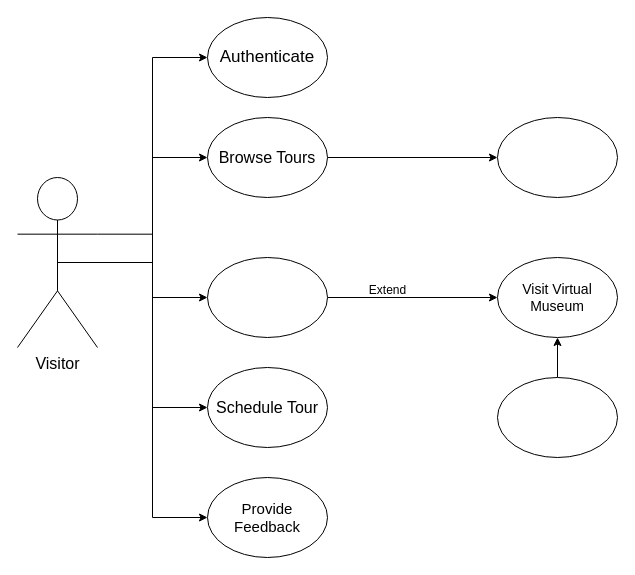
This 635x575 diagram has some shape labels left out. Each missing label, with the centre of its shape:
"Explore Exhibits" goes at (x=557, y=157).
"Take Virtual Tour" goes at (x=267, y=297).
"Use AR/3D Feature" goes at (x=557, y=417).
